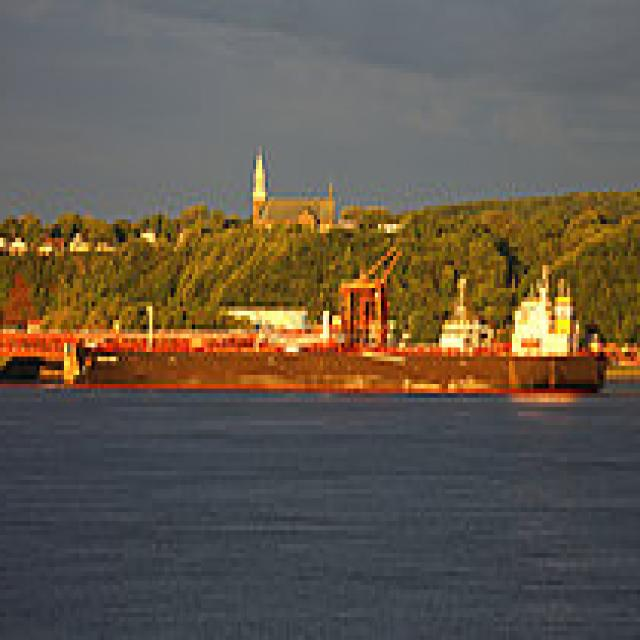Tanker: (79, 251, 613, 398)
